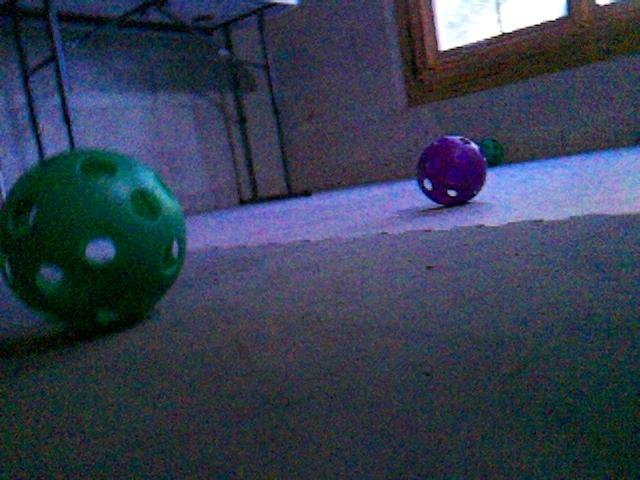Green: (479, 137, 504, 166)
Purple: (414, 134, 489, 207)
